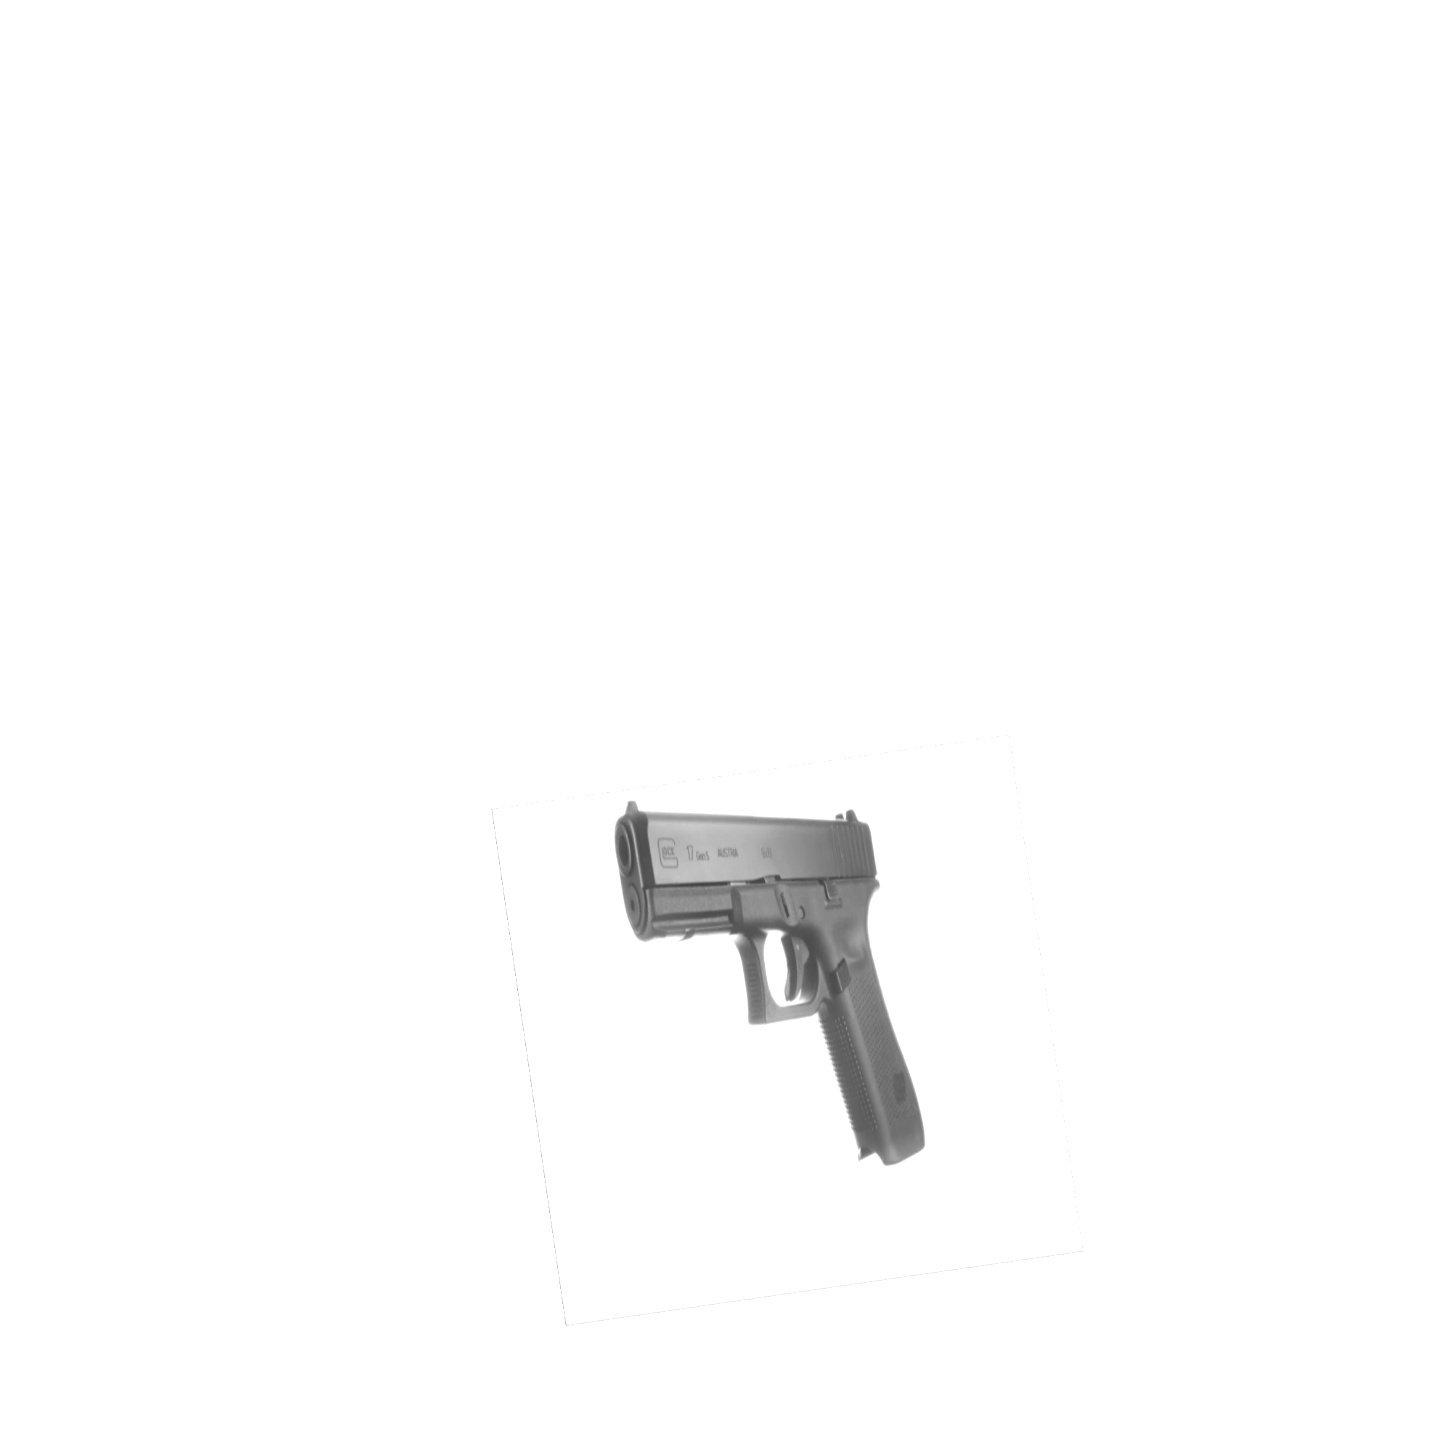gun: (608, 786, 939, 1173)
